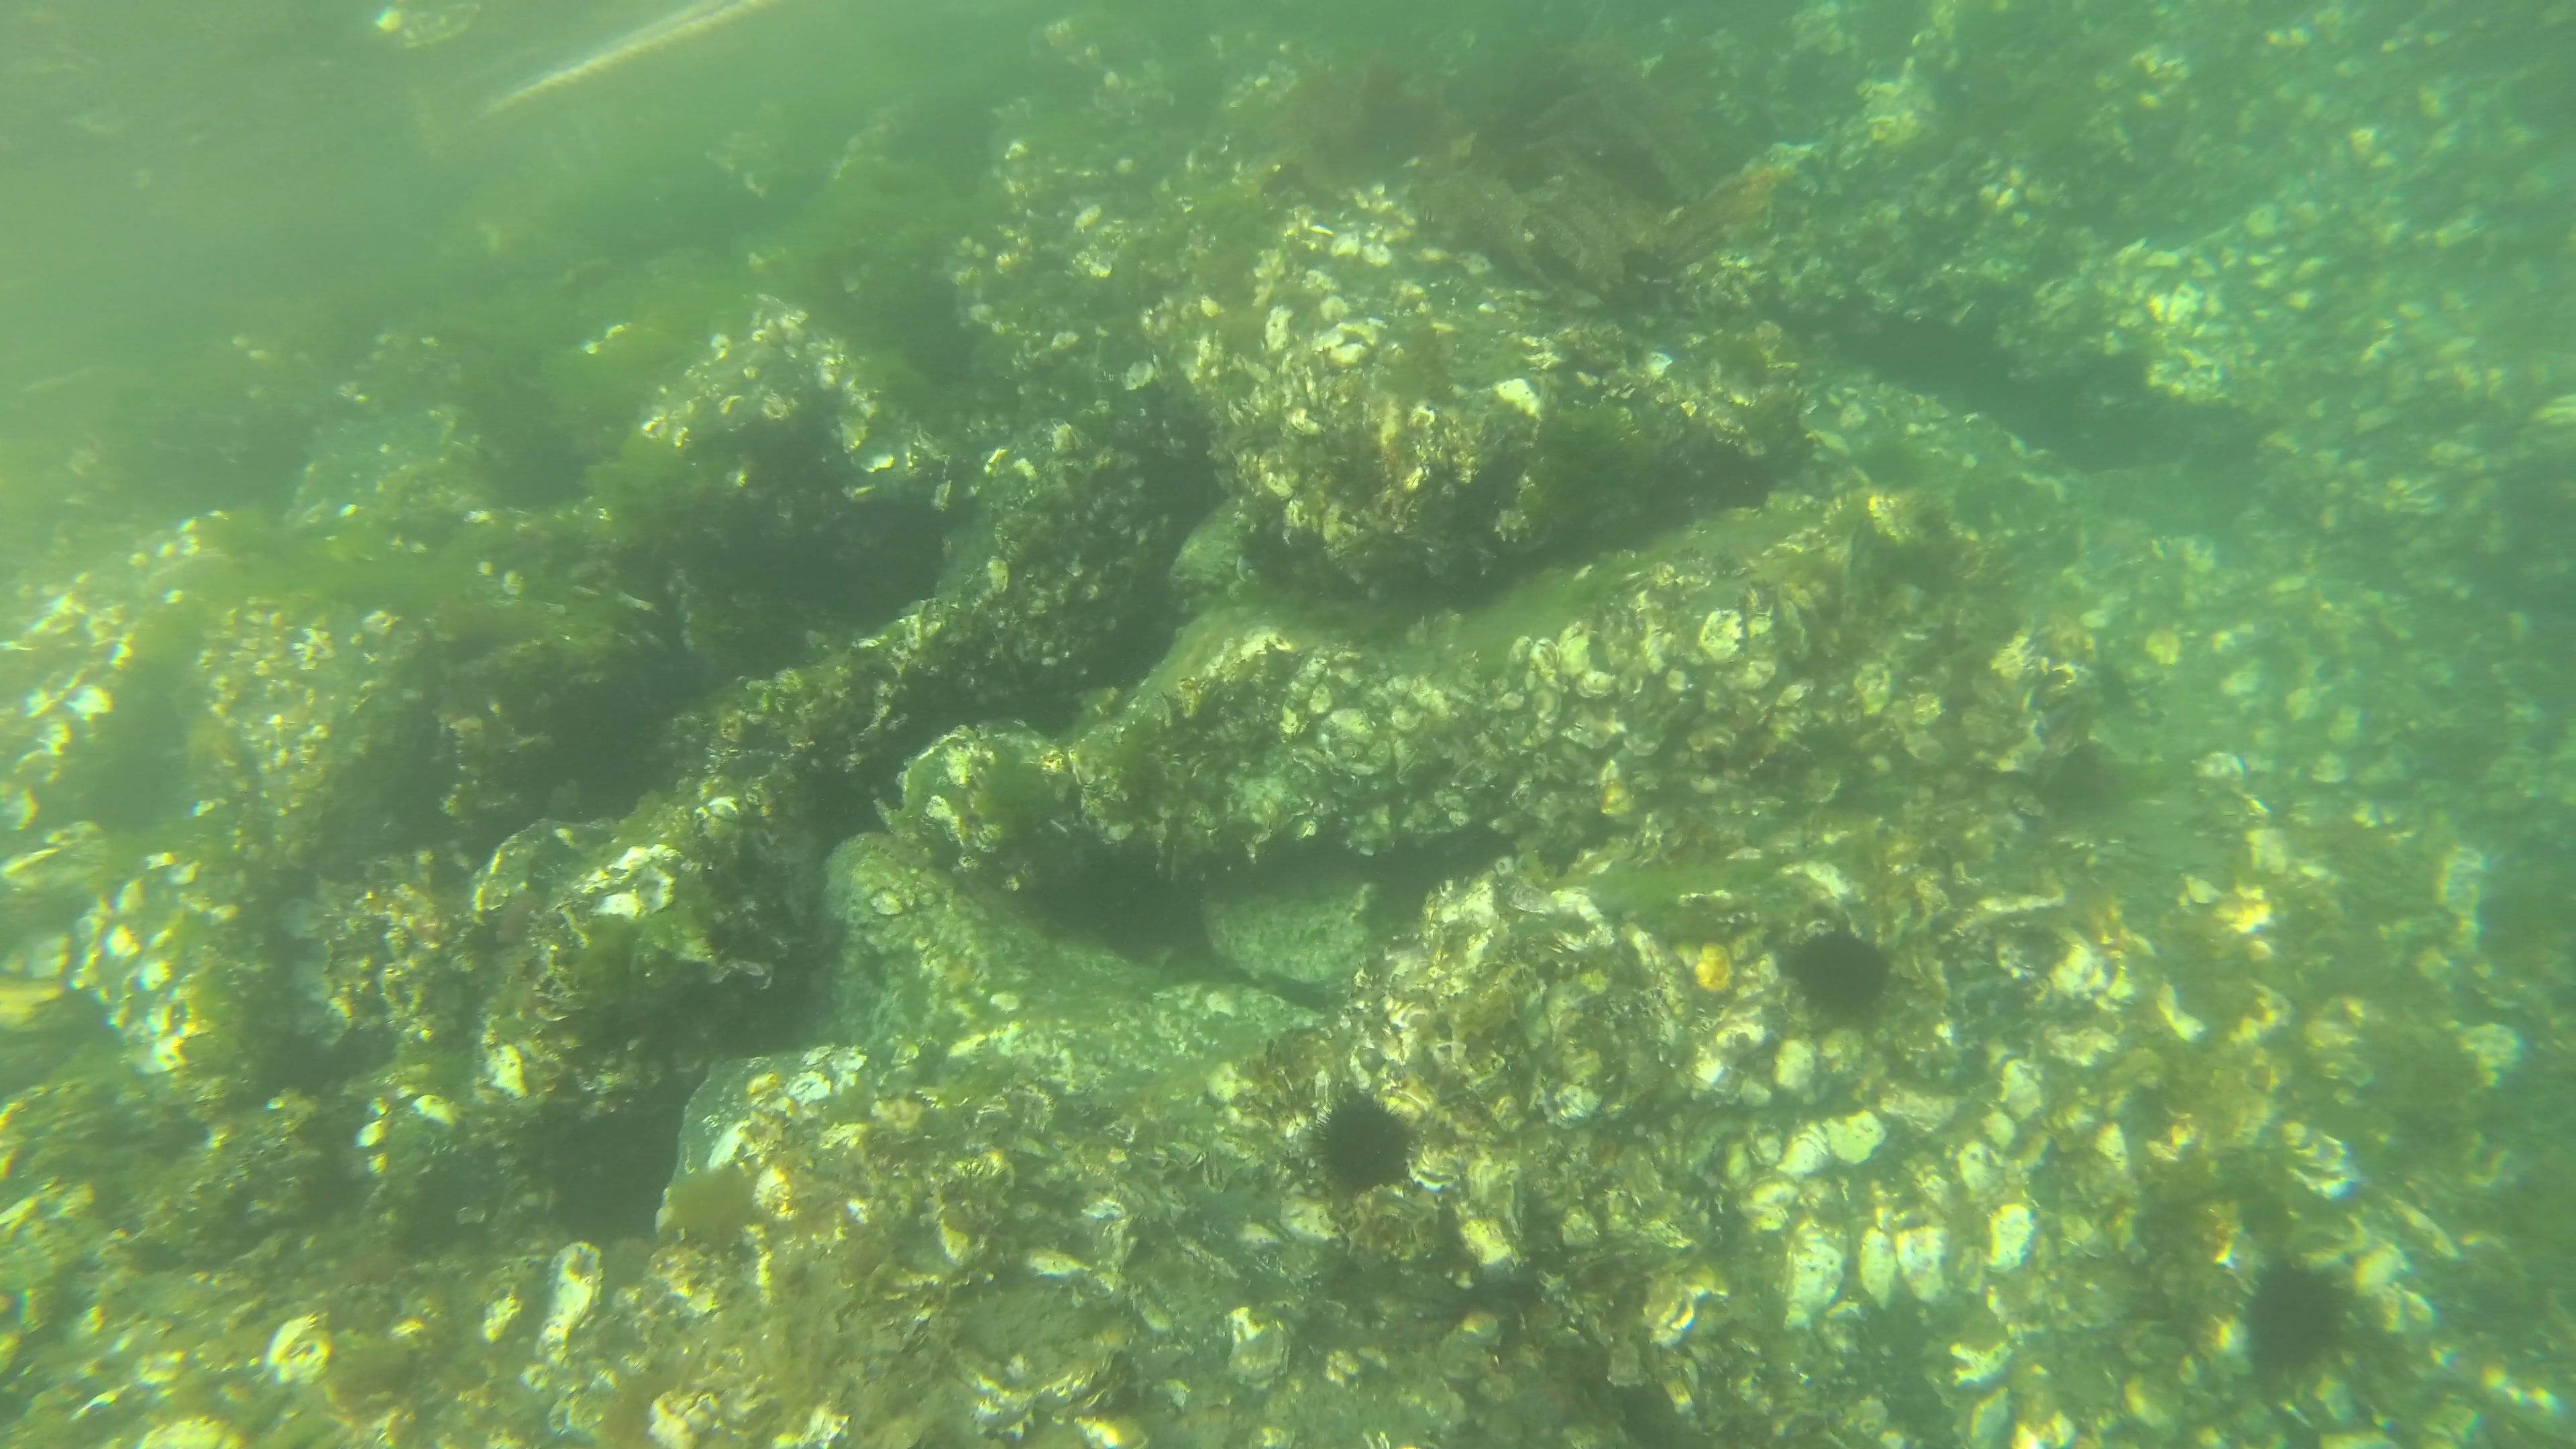echinus: (2235, 1260, 2350, 1378), (1778, 927, 1898, 1023), (1316, 1093, 1417, 1192)
starfish: (1506, 1380, 1591, 1433)
